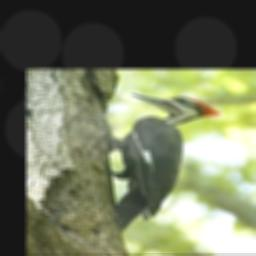Woodpecker: (105, 93, 222, 230)
